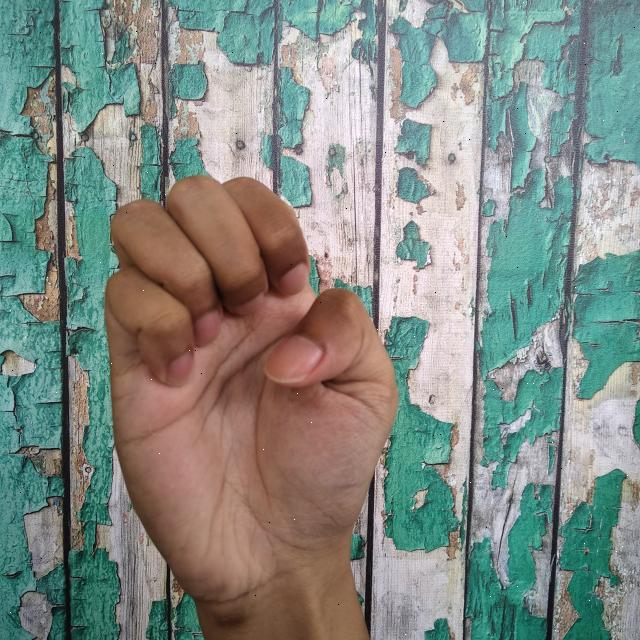E: (101, 169, 396, 640)
